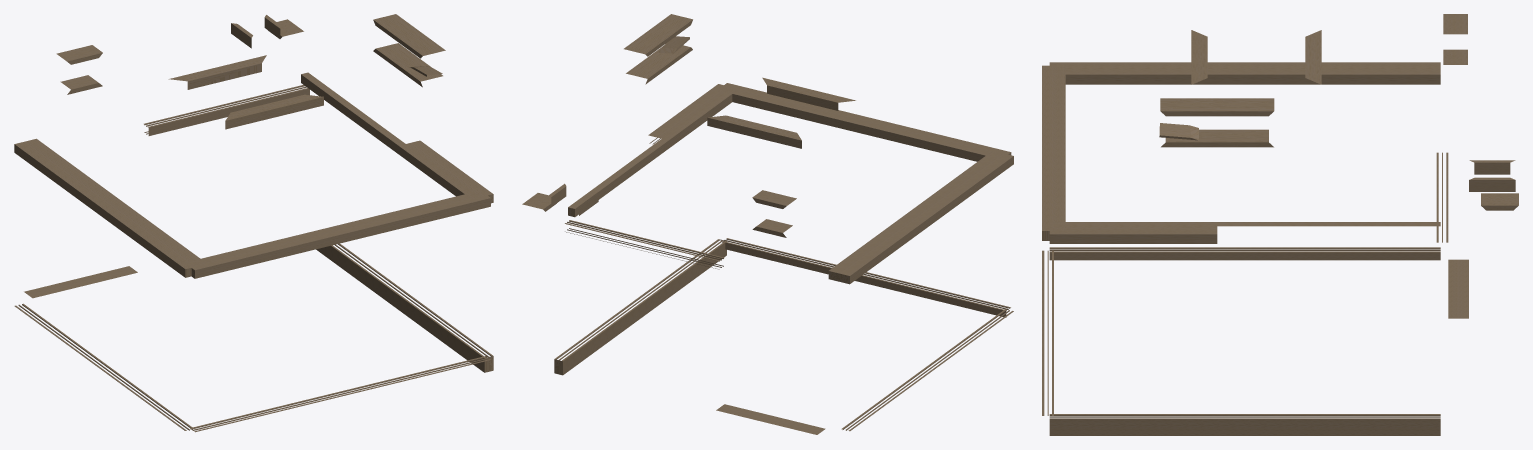
Rendered from kd_stage_135b75_4_14_bounded_portal.glb.
The picture shows the model from 3 angles, left to right: view 1: azimuth 30°, elevation 25°; view 2: azimuth 150°, elevation 25°; view 3: azimuth 270°, elevation 25°; orthographic projection. The views are drawn at different scales.
Parts seen in each view (by area): view 1: kd_stage_135b75_4_14_bounded_portal; view 2: kd_stage_135b75_4_14_bounded_portal; view 3: kd_stage_135b75_4_14_bounded_portal.
Part boxes in pixels (<box>): kd_stage_135b75_4_14_bounded_portal: <box>14,14,493,432</box>; kd_stage_135b75_4_14_bounded_portal: <box>522,14,1013,434</box>; kd_stage_135b75_4_14_bounded_portal: <box>1042,14,1518,435</box>.
Size of the model in its own units: 3.75 by 3.3 by 4.39.
1 material, 1 textured.
